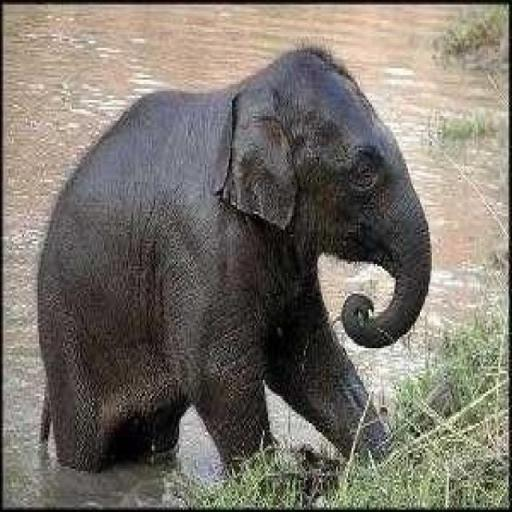Elephant: (36, 41, 432, 485)
